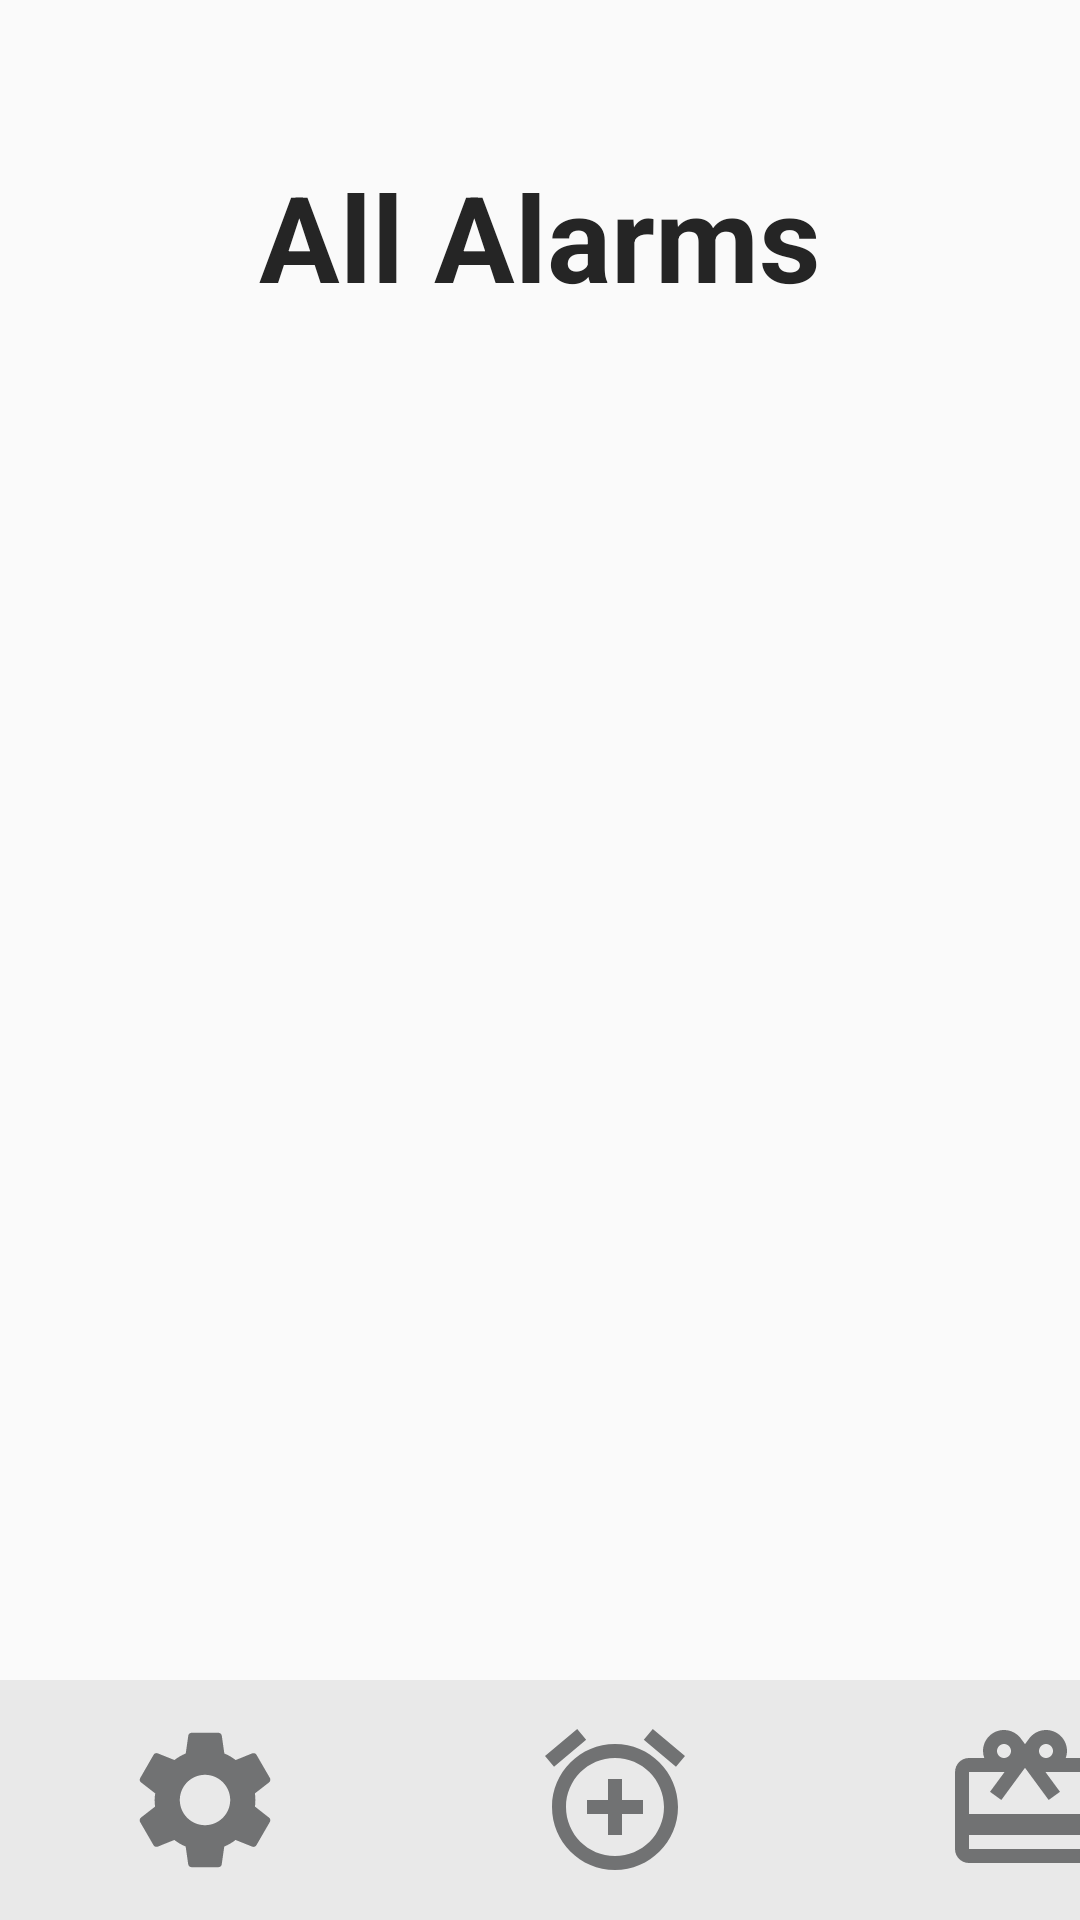

Point at icon controls on the screen. Image size 1080×1920, points as [x,y].
add alarm: [615,1799]
setting: [205,1800]
